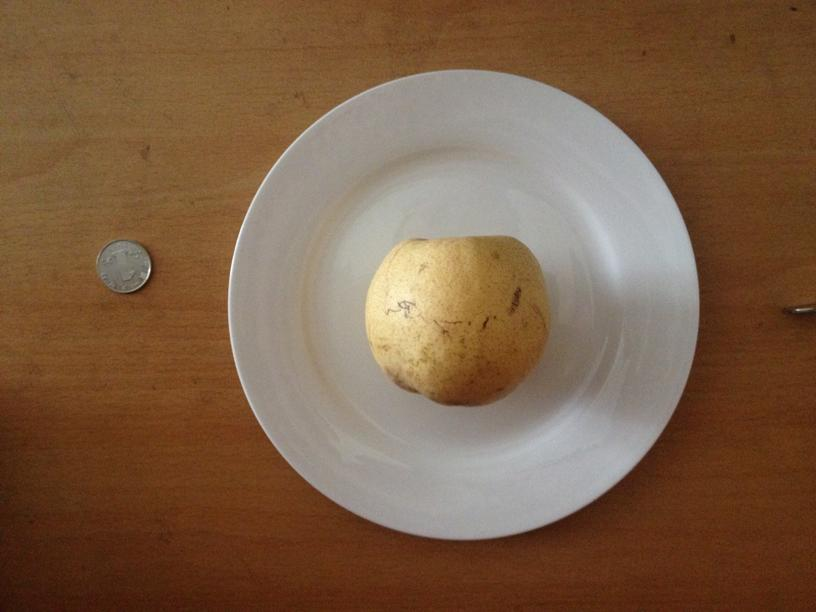coin: (95, 239, 152, 293)
pear: (370, 235, 549, 409)
